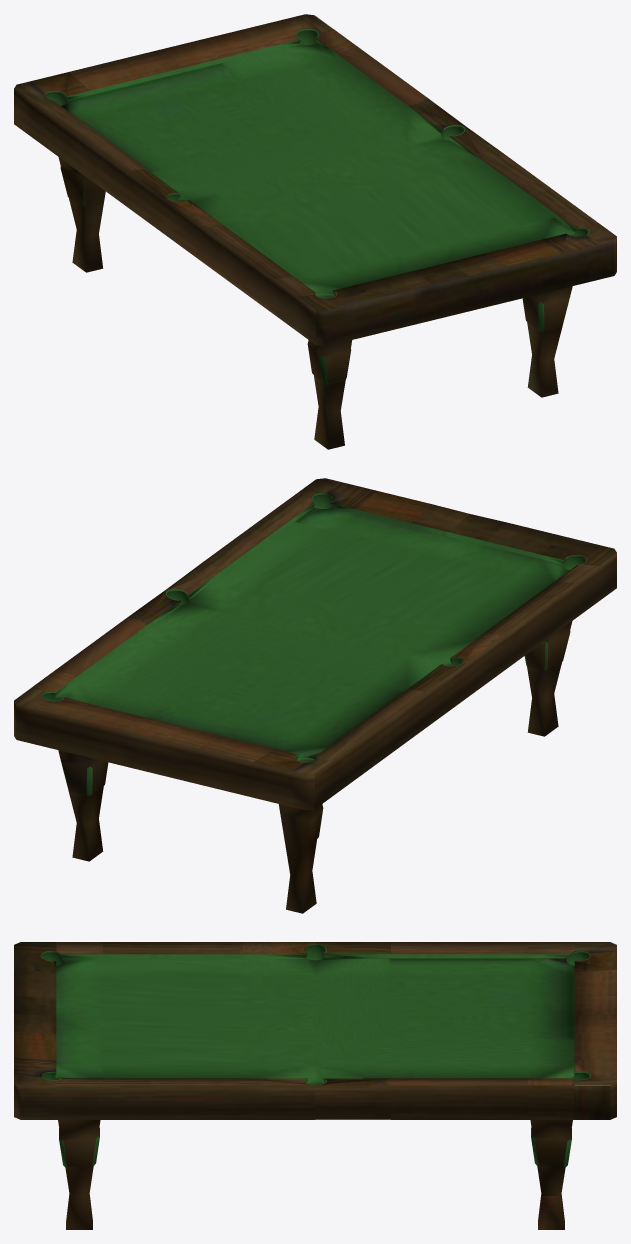
File: billar5glb.glb
The picture shows the model from 3 angles, top to bottom: view 1: azimuth 30°, elevation 25°; view 2: azimuth 150°, elevation 25°; view 3: azimuth 270°, elevation 25°; orthographic projection. The views are drawn at different scales.
Parts seen in each view (by area): view 1: Cube.001; view 2: Cube.001; view 3: Cube.001.
Part boxes in pixels (box(x1,y1,x2,y2)): Cube.001: box(14, 14, 616, 449); Cube.001: box(14, 478, 616, 913); Cube.001: box(14, 942, 616, 1229).
Size of the model in its own units: 2.5 by 1.32 by 4.45.
Materials: 1 (1 with a texture image).
